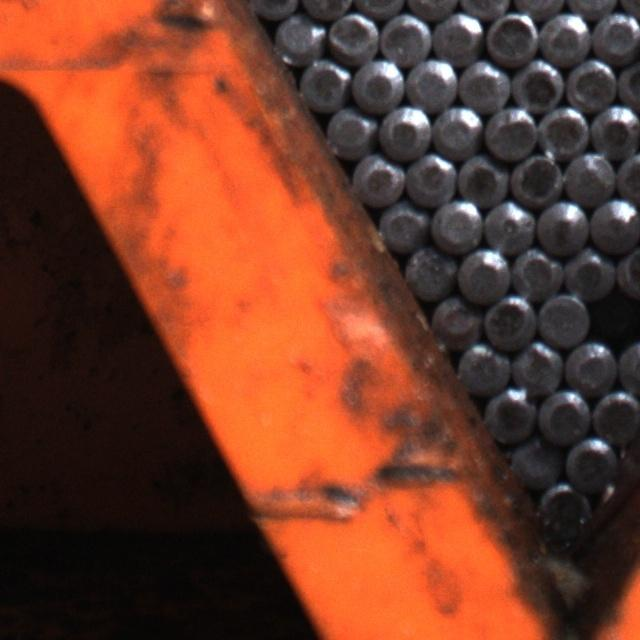tool: (483, 103, 537, 158), (482, 385, 536, 439), (378, 104, 431, 158), (539, 387, 592, 441), (482, 292, 535, 346), (486, 10, 538, 64), (322, 106, 376, 158), (538, 103, 589, 158), (562, 149, 613, 204), (430, 197, 482, 250), (456, 152, 509, 204), (403, 244, 455, 297), (455, 341, 507, 394), (352, 58, 404, 110), (297, 58, 349, 110), (456, 247, 508, 299), (514, 56, 566, 108), (327, 10, 379, 62), (535, 198, 587, 250), (376, 200, 428, 252), (508, 154, 560, 206), (564, 339, 615, 392), (588, 100, 639, 153), (538, 10, 589, 62), (566, 58, 618, 109), (459, 59, 510, 111), (379, 12, 430, 64), (588, 197, 639, 249), (563, 435, 615, 486), (405, 151, 455, 204), (511, 340, 561, 393), (592, 385, 640, 440), (431, 105, 482, 156), (509, 438, 560, 489), (406, 57, 456, 109), (484, 199, 534, 251), (432, 10, 482, 62), (274, 11, 324, 63), (538, 291, 588, 343), (509, 246, 561, 296), (352, 155, 404, 205), (590, 10, 640, 60), (564, 247, 613, 298), (431, 294, 480, 342), (589, 292, 638, 340), (614, 248, 640, 298), (615, 150, 640, 200), (617, 337, 640, 391), (616, 59, 640, 110)
